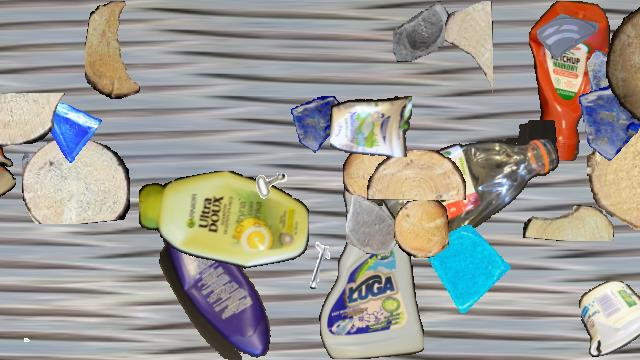glass: (427, 225, 515, 313), (577, 79, 640, 163), (32, 94, 102, 164), (537, 1, 599, 63), (393, 1, 453, 61), (346, 195, 404, 253), (291, 96, 347, 152), (587, 46, 640, 102)
metal: (235, 143, 295, 203), (295, 242, 351, 298), (0, 311, 37, 349)
plastic: (381, 120, 559, 238), (319, 169, 423, 359), (156, 217, 276, 359), (139, 171, 309, 271), (529, 1, 609, 161), (330, 92, 412, 156), (579, 281, 640, 357), (0, 136, 16, 226)
wood: (22, 136, 130, 224), (587, 109, 640, 229), (85, 1, 145, 99), (367, 150, 465, 200), (445, 1, 493, 97), (606, 1, 640, 129), (0, 93, 65, 147), (523, 205, 613, 241), (394, 200, 448, 258), (343, 146, 393, 206)
